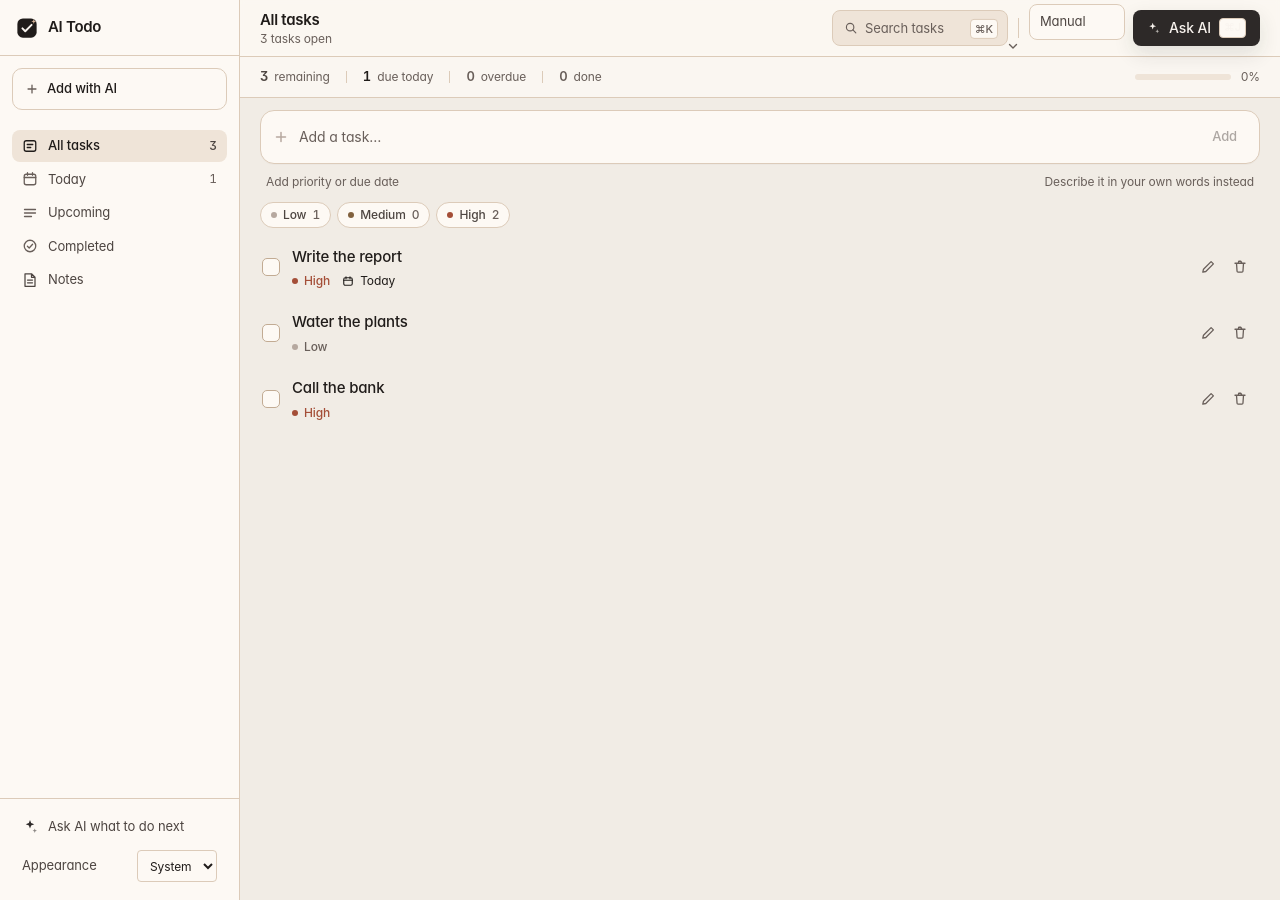
it: filter and search › filters by priority
Click the button "High 2" at (473, 214), box [436, 202, 510, 228]
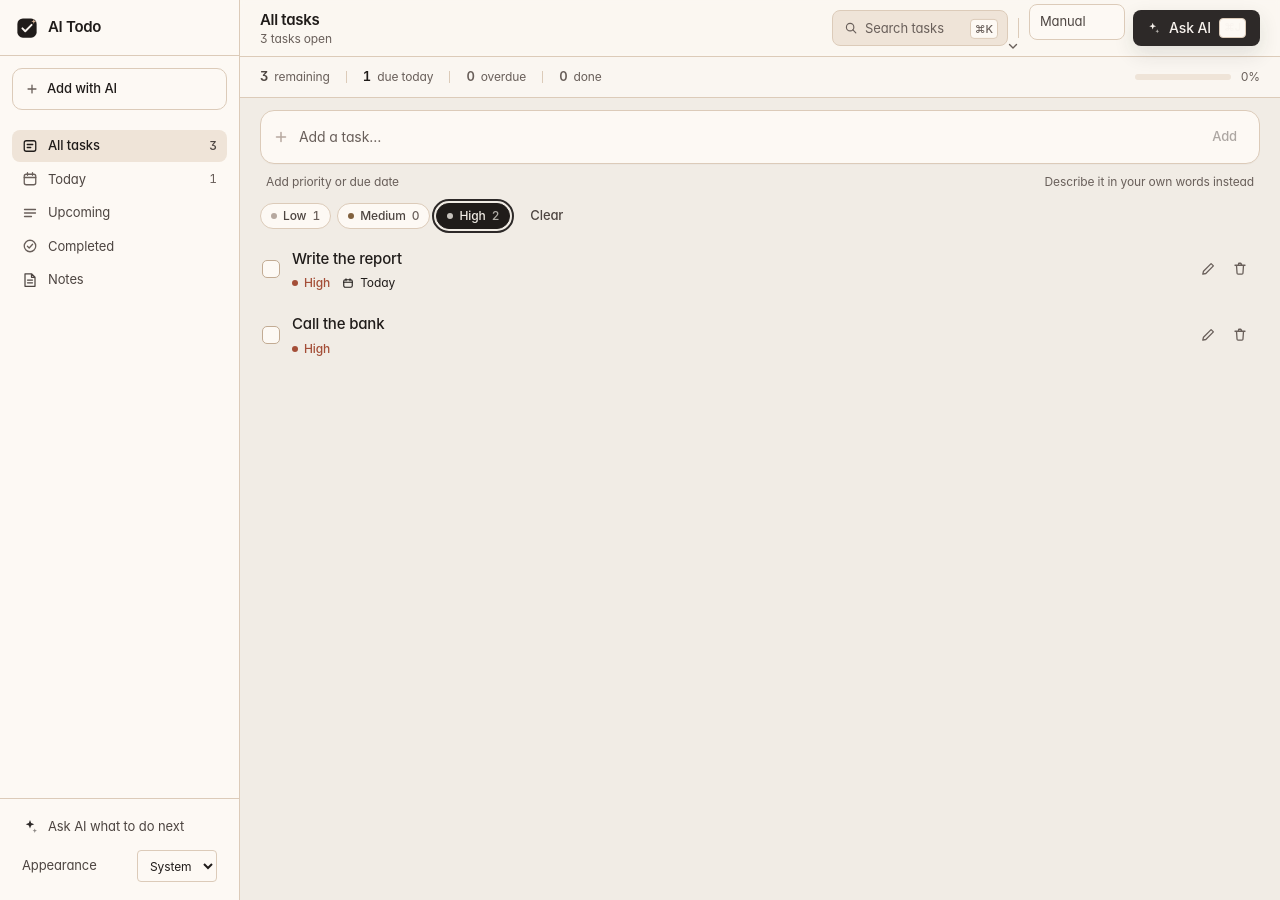
Expected: the text "Write the report" is shown, [292, 248, 402, 268]
Expected: the button "Water the plants" is gone
